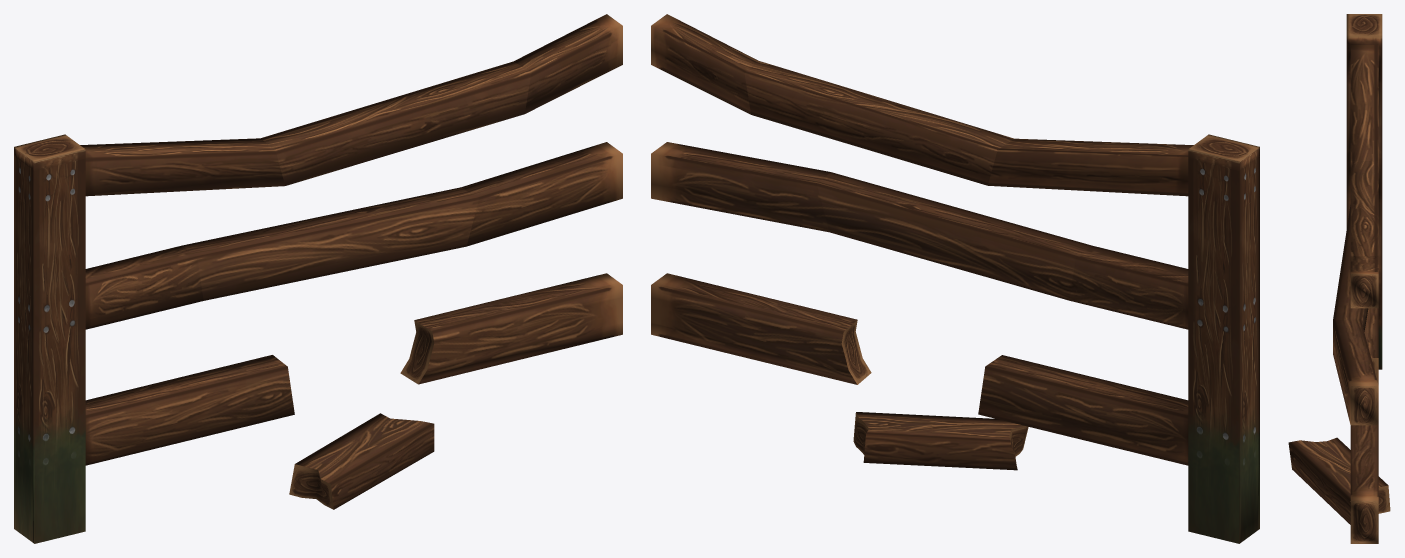
Rendered from cerca_quebrada1.fbx.
3 renders of one model, left to right at view 1: azimuth 30°, elevation 25°; view 2: azimuth 150°, elevation 25°; view 3: azimuth 270°, elevation 25°, orthographic. The views are drawn at different scales.
Parts seen in each view (by area): view 1: CA_OPE_Props_Fazenda; view 2: CA_OPE_Props_Fazenda; view 3: CA_OPE_Props_Fazenda.
Boxes of the visible parts, bbox=[...] form: CA_OPE_Props_Fazenda: bbox=[14, 14, 622, 543]; CA_OPE_Props_Fazenda: bbox=[651, 14, 1259, 543]; CA_OPE_Props_Fazenda: bbox=[1288, 14, 1390, 543].
Size of the model in its own units: 3.32 by 2.1 by 0.5689.
